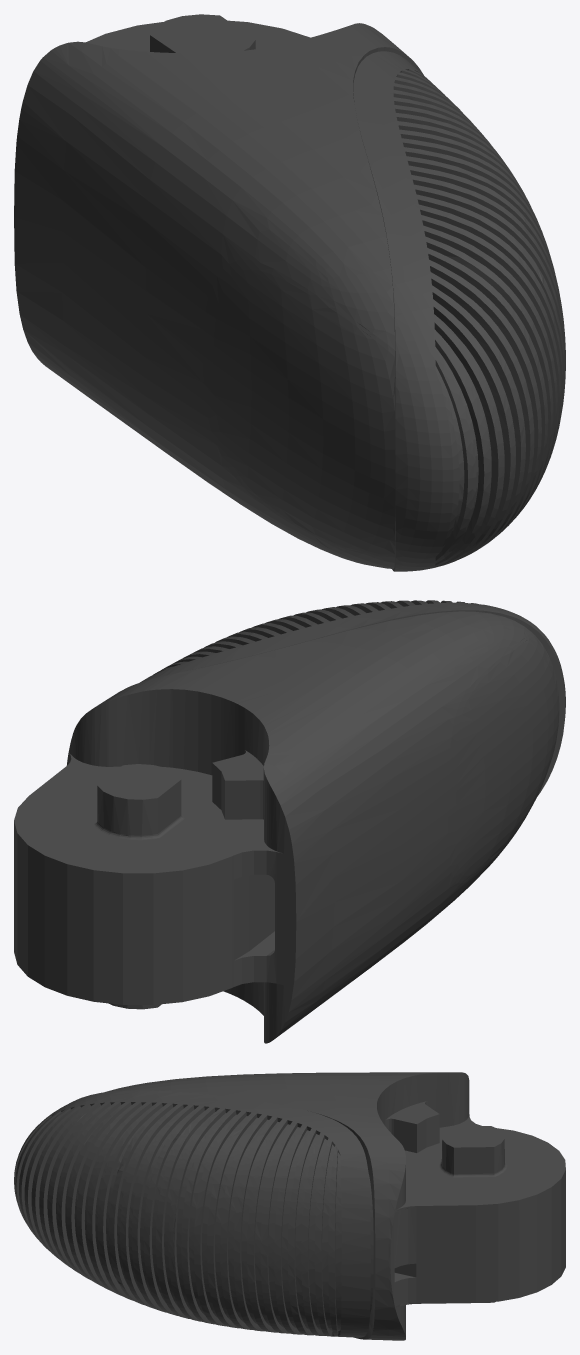
Rendered from lh_thumb_distal_vis.obj.
3 views of the same model, one above another, from view 1: azimuth 30°, elevation 25°; view 2: azimuth 150°, elevation 25°; view 3: azimuth 270°, elevation 25° (orthographic). The views are drawn at different scales.
Parts seen in each view (by area): view 1: lh_thumb_distal; view 2: lh_thumb_distal; view 3: lh_thumb_distal.
Boxes of the visible parts, x1,y1,x2,y2 form: lh_thumb_distal: (14, 14, 565, 571); lh_thumb_distal: (14, 600, 565, 1043); lh_thumb_distal: (14, 1072, 565, 1340).
Size of the model in its own units: 0.0191 by 0.0188 by 0.0432.
1 material, 1 textured.
